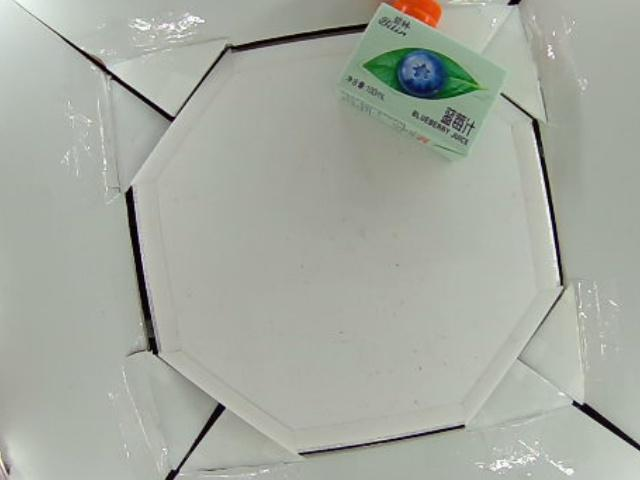Bottle: (339, 1, 510, 164)
